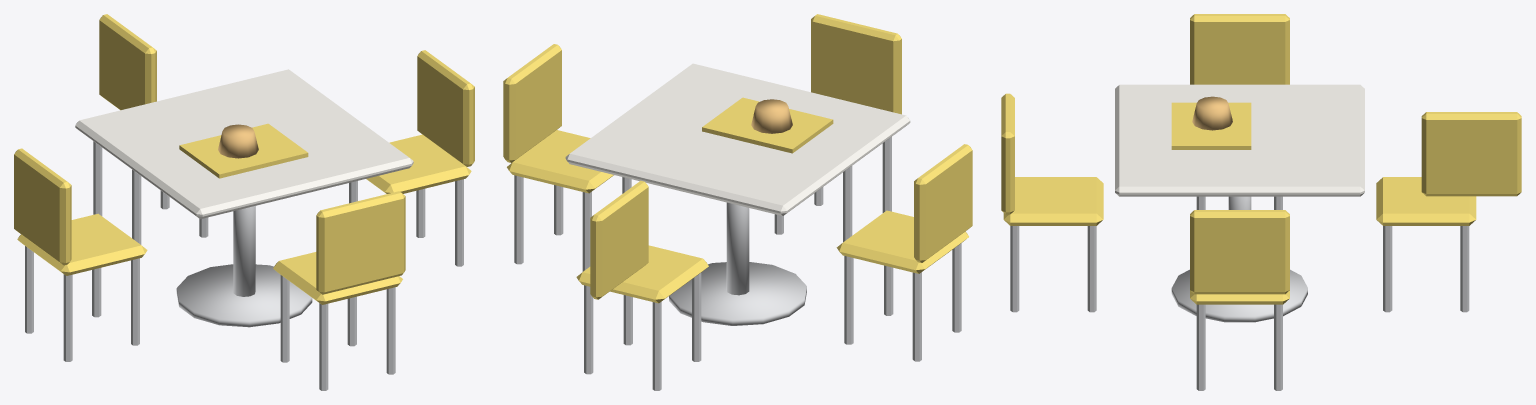
File: table-burger.glb
The picture shows the model from 3 angles, left to right: view 1: azimuth 30°, elevation 25°; view 2: azimuth 150°, elevation 25°; view 3: azimuth 270°, elevation 25°; orthographic projection. The views are drawn at different scales.
Visible parts, largest first — view 1: table-burger; view 2: table-burger; view 3: table-burger.
Boxes of the visible parts, bbox=[...] form: table-burger: bbox=[14, 14, 474, 390]; table-burger: bbox=[503, 14, 972, 390]; table-burger: bbox=[1001, 14, 1521, 390].
Bounding box in the file's own units: 2.1 × 0.88 × 2.29.
